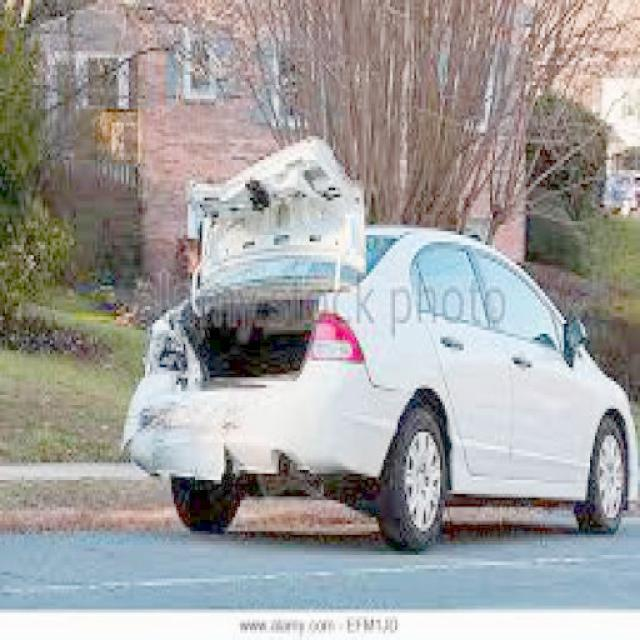car damage: (124, 141, 362, 484)
